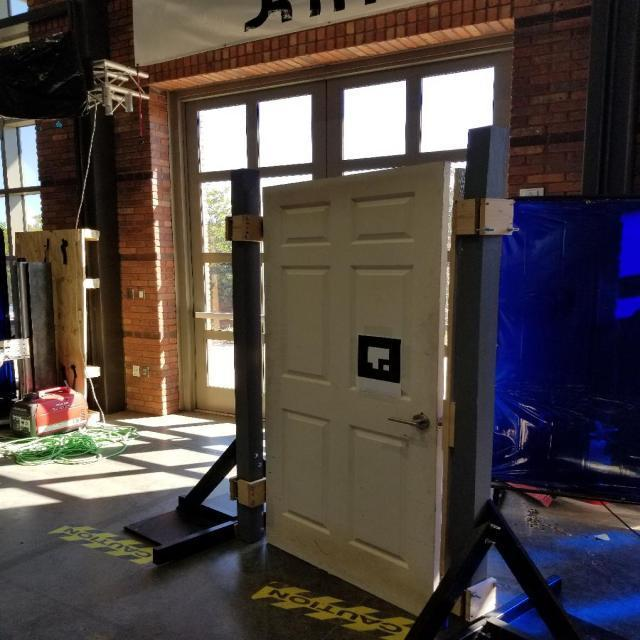door: (258, 158, 450, 628), (382, 409, 438, 434)
